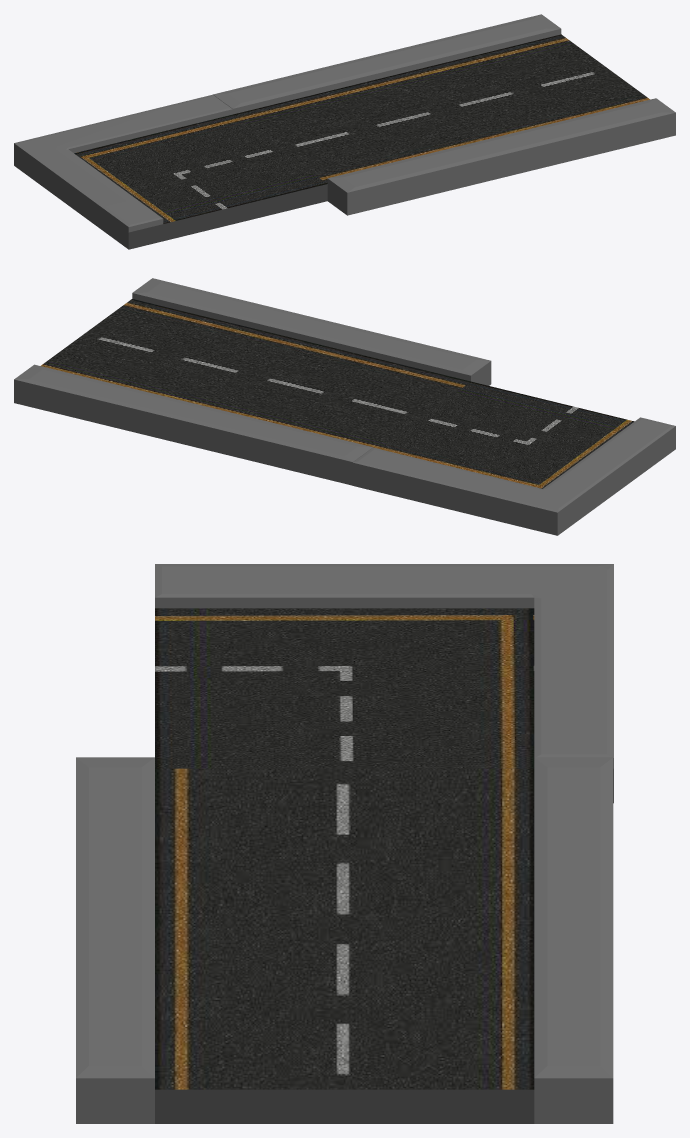
File: Streets.fbx
The picture shows the model from 3 angles, top to bottom: view 1: azimuth 30°, elevation 25°; view 2: azimuth 150°, elevation 25°; view 3: azimuth 270°, elevation 25°; orthographic projection. The views are drawn at different scales.
Visible parts, largest first — view 1: Cube, Cube.001; view 2: Cube, Cube.001; view 3: Cube, Cube.001.
Boxes of the visible parts, x1,y1,x2,y2 form: Cube: (213,14,675,215); Cube.001: (14,94,327,249); Cube: (14,278,491,485); Cube.001: (352,381,675,535); Cube: (76,757,613,1123); Cube.001: (155,564,613,803).
Size of the model in its own units: 3210 by 136 by 1418.
